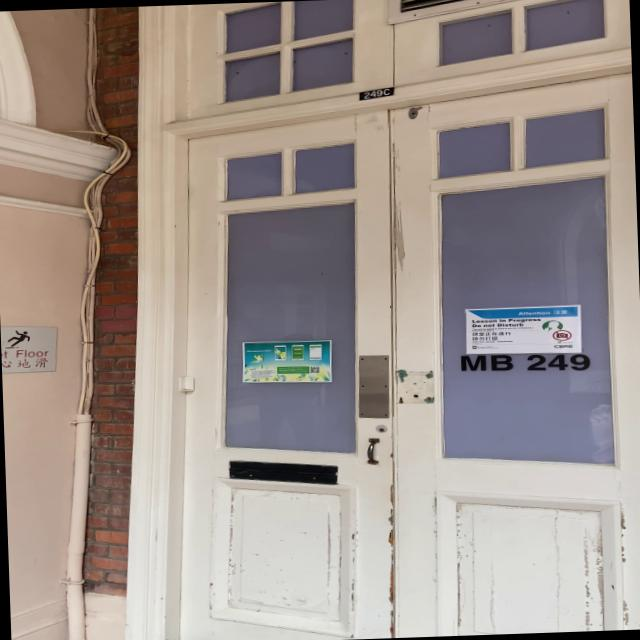room249c: (352, 84, 392, 101)
room249cWindow: (453, 348, 597, 378)
